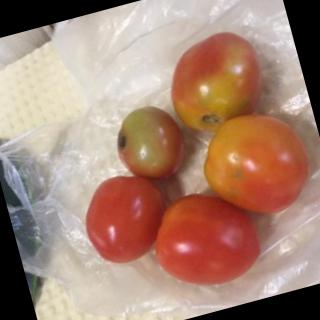Tomat: (31, 12, 320, 320)
